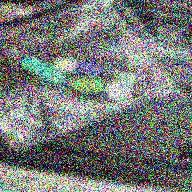러키펜정: (106, 81, 132, 101)
씨엠지세파클러캡슐: (53, 58, 101, 78)
에르도캡슐: (19, 56, 66, 85)
휴티렌정: (69, 77, 107, 94)
